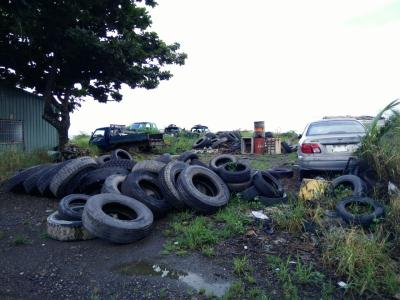box: (240, 135, 254, 156)
bucket: (253, 136, 266, 153)
tire: (81, 192, 154, 246), (175, 164, 231, 215), (125, 168, 173, 221), (48, 154, 98, 201), (46, 209, 97, 243), (335, 195, 384, 226), (76, 164, 125, 195), (220, 157, 253, 185), (253, 170, 284, 197), (191, 134, 211, 151)
